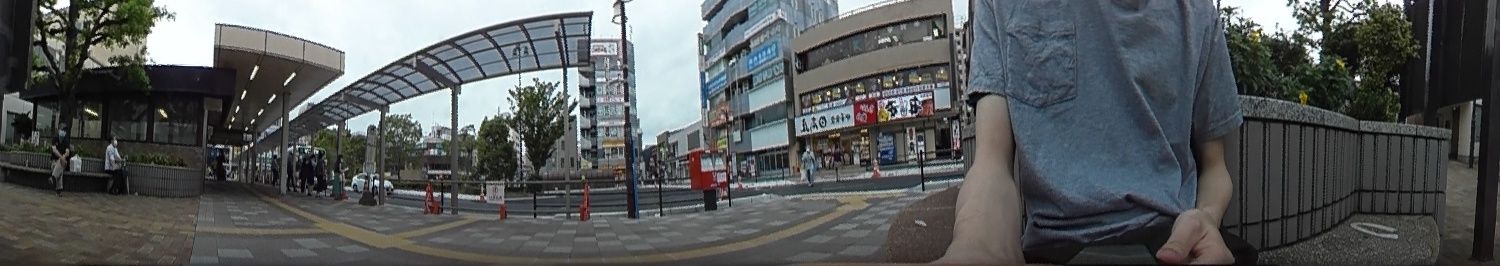difficult_person: (332, 154, 347, 199), (802, 145, 816, 185), (314, 152, 326, 193), (830, 146, 842, 176), (215, 146, 225, 182), (287, 153, 295, 195), (299, 156, 309, 189)
person: (103, 133, 134, 197), (50, 122, 75, 193)
